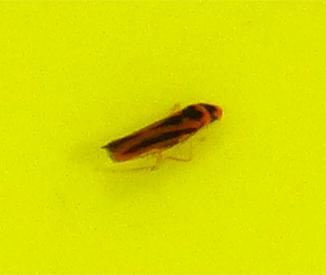Hemiptera: (100, 100, 226, 175)
